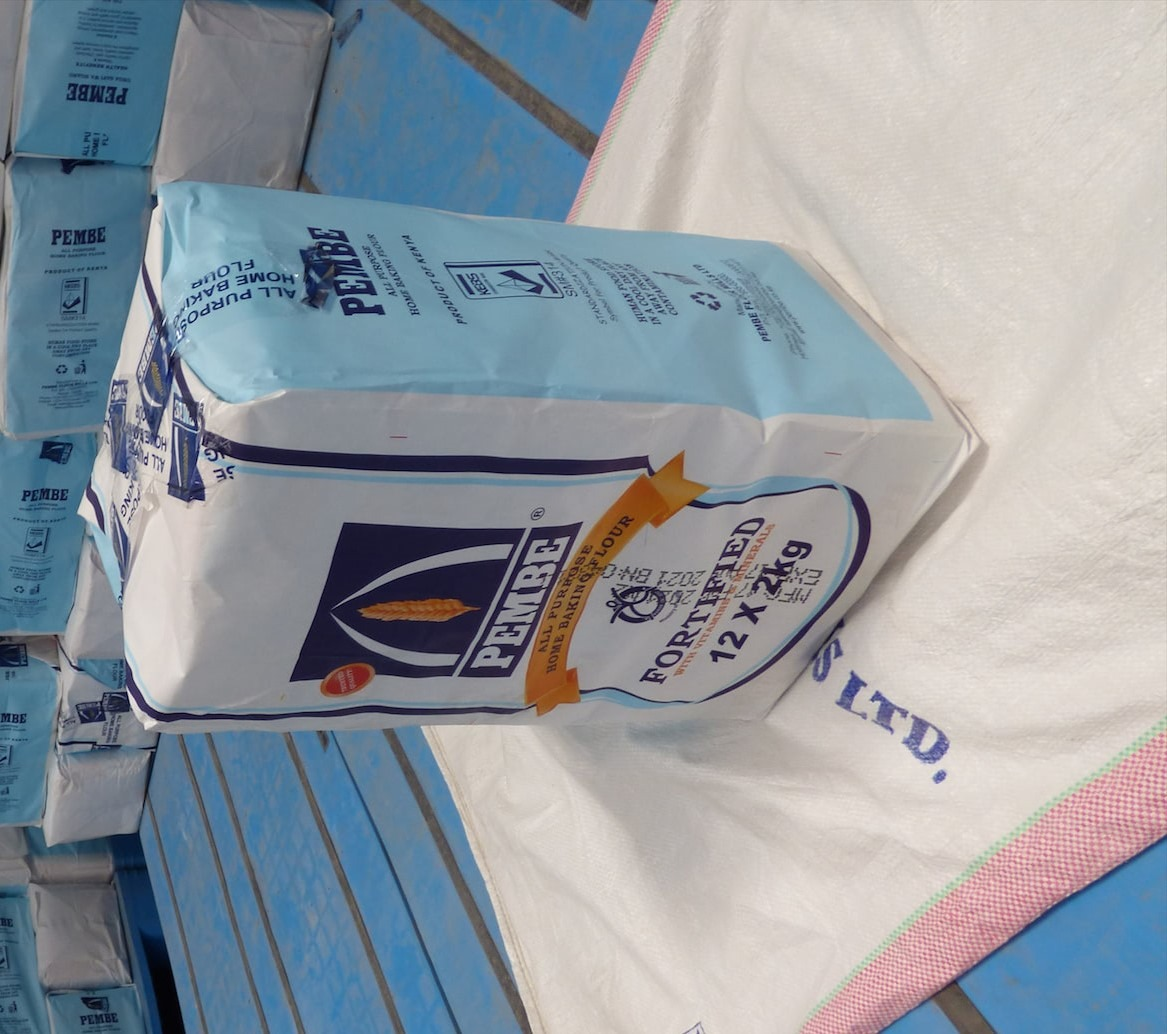wheat_flour_blue_label: (80, 187, 973, 722)
